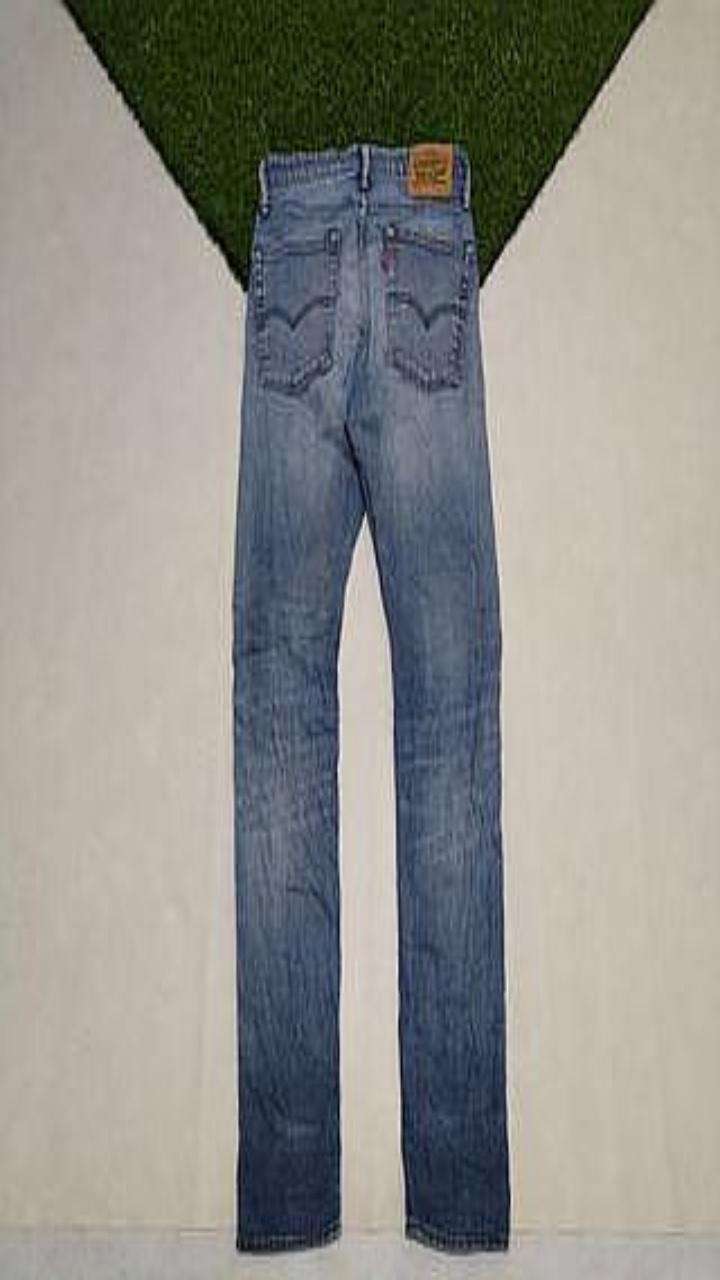Jeans: (233, 143, 509, 1250)
